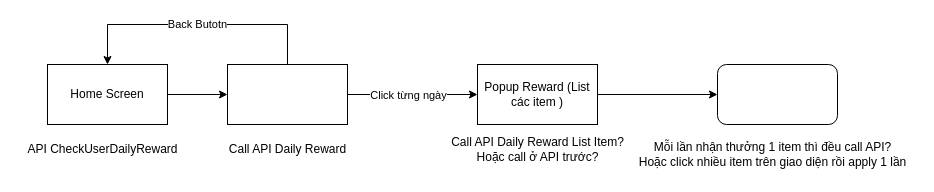
Some shapes in this 934 by 192 pixel diagram are drawn without their labels. Each missing label, with the centre of its shape:
"Daily Reward" belongs at [287,94].
"Item Button (để nhận thưởng)" belongs at [777,94].
